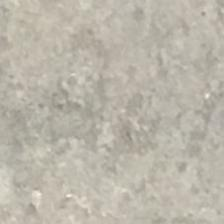Non_Crack: (27, 17, 224, 209)
